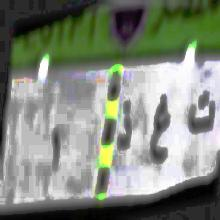1: (49, 120, 64, 175)
ghayn: (145, 82, 175, 170)
taa: (187, 85, 217, 144)
zaal: (118, 88, 134, 160)
